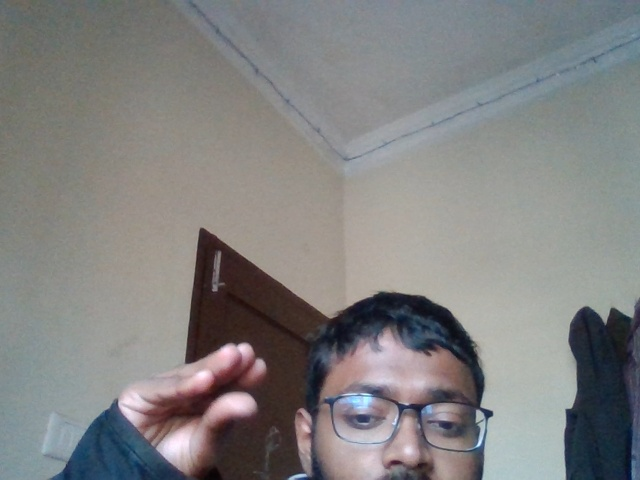no: (98, 331, 304, 468)
